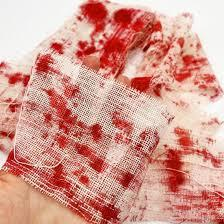cotton: (0, 0, 223, 222), (5, 52, 171, 223), (0, 1, 153, 143), (130, 14, 223, 222), (0, 62, 29, 157)
